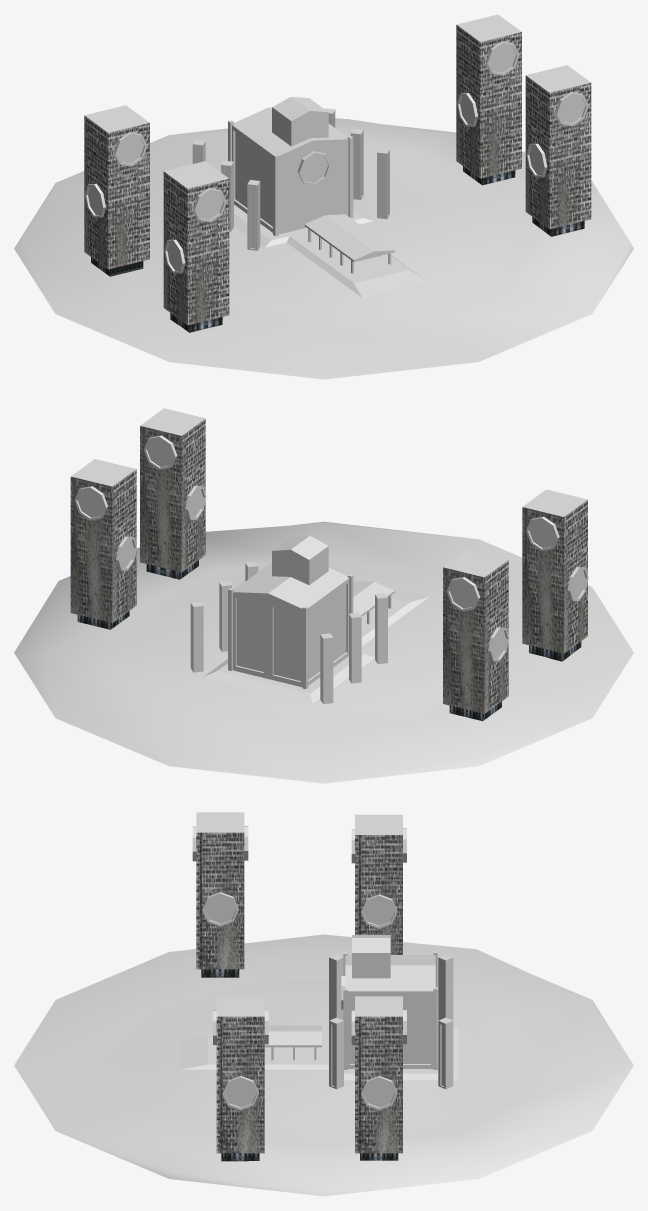
The model's file is TownC.fbx.
3 renders of one model, top to bottom at view 1: azimuth 30°, elevation 25°; view 2: azimuth 150°, elevation 25°; view 3: azimuth 270°, elevation 25°, orthographic.
Visible parts, largest first — view 1: TownC; view 2: TownC; view 3: TownC.
Boxes of the visible parts, x1,y1,x2,y2 form: TownC: (14,14,633,379); TownC: (14,408,633,783); TownC: (14,812,633,1196).
Size of the model in its own units: 28889 by 7984 by 28889.
